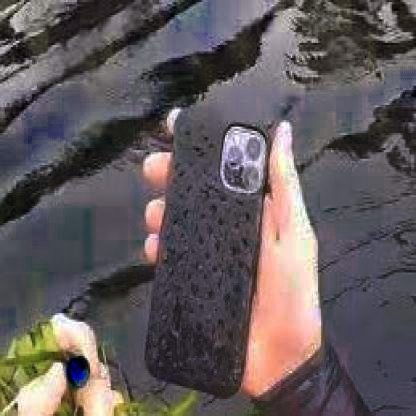cellphone: (144, 114, 270, 403)
